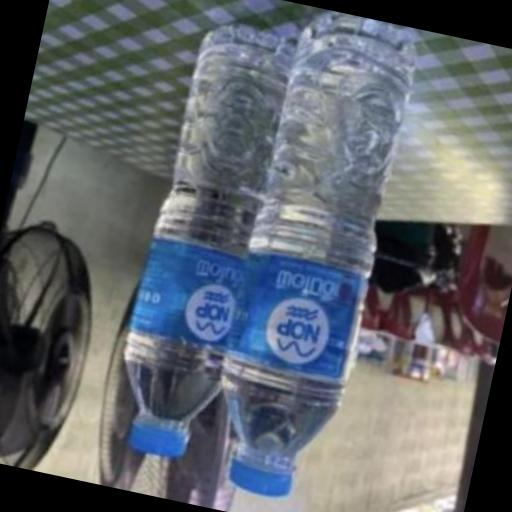Coca: (185, 3, 431, 512), (99, 12, 314, 477)
